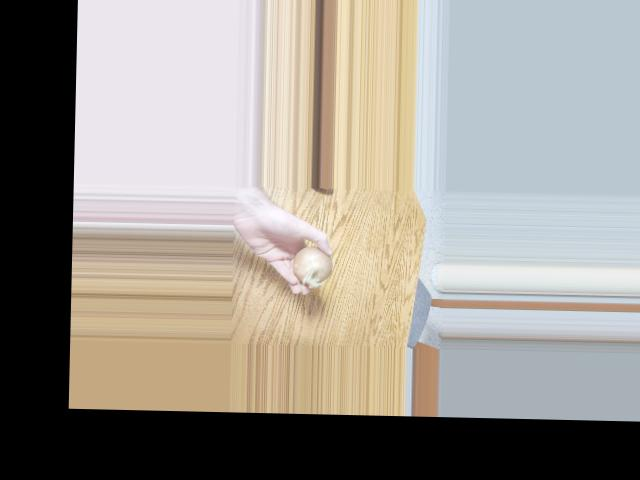onion: (289, 245, 332, 283)
